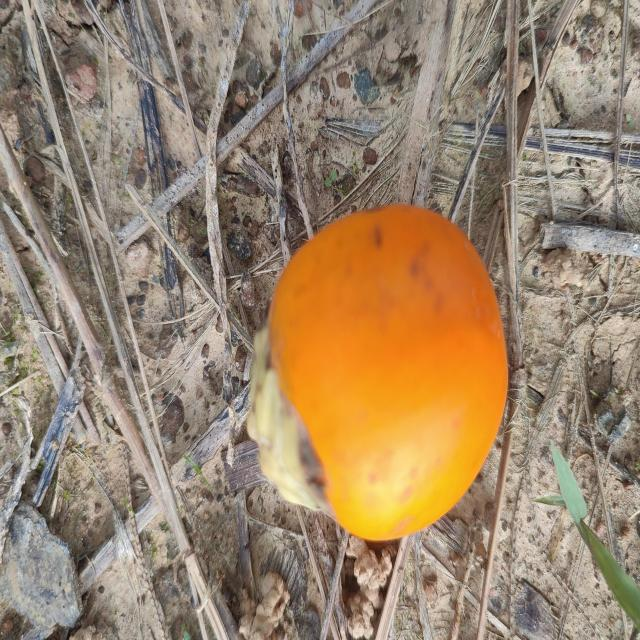good: (248, 205, 509, 545)
